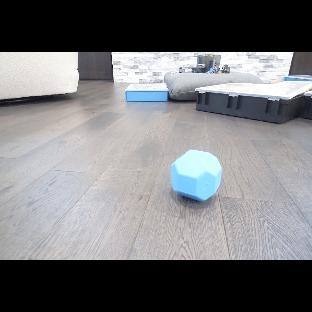V5_BLUE: (168, 150, 225, 203)
